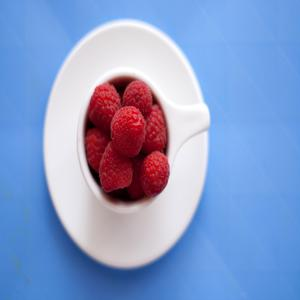raspb: (91, 85, 167, 200)
